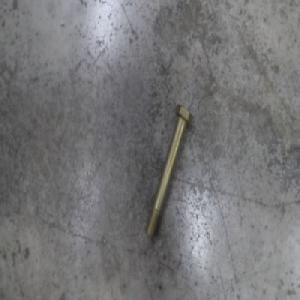Bolt: (145, 104, 193, 240)
